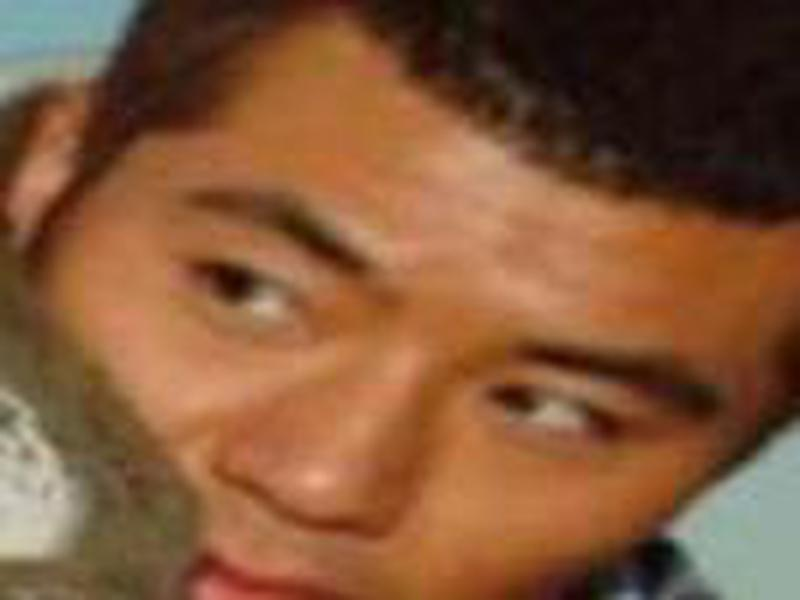without_mask: (80, 21, 778, 600)
